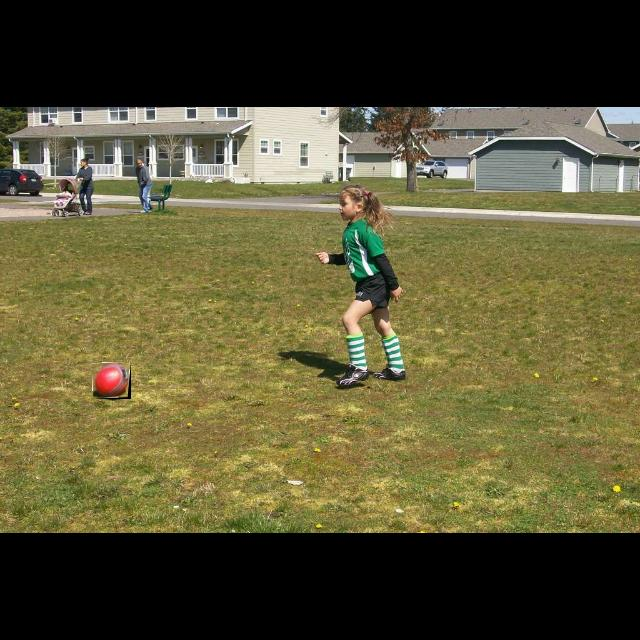Football: (93, 363, 131, 399)
